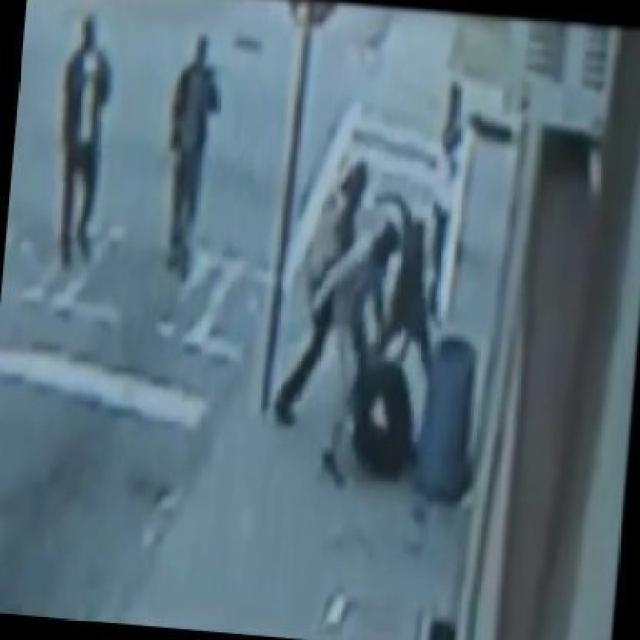fight: (307, 212, 434, 490), (270, 153, 370, 428)
non-fight: (162, 35, 225, 282), (58, 16, 116, 263)
